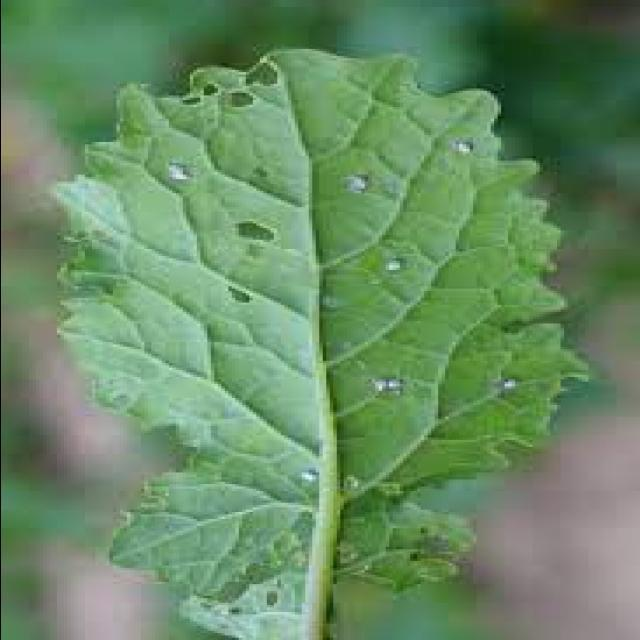aphid: (280, 466, 326, 492), (374, 253, 409, 280), (486, 377, 528, 398), (444, 137, 476, 161), (339, 174, 371, 198), (157, 162, 189, 186), (360, 377, 388, 403), (378, 378, 406, 396)
